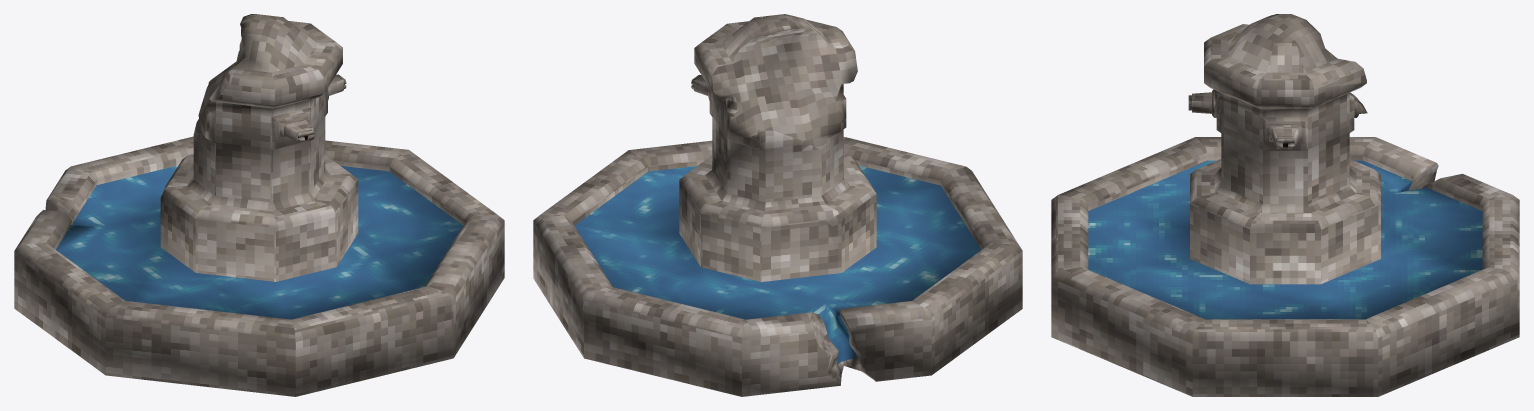
The model's file is Fountain_Broken.fbx.
3 renders of one model, left to right at view 1: azimuth 30°, elevation 25°; view 2: azimuth 150°, elevation 25°; view 3: azimuth 270°, elevation 25°, orthographic.
Visible parts, largest first — view 1: Cube.002; view 2: Cube.002; view 3: Cube.002.
Part boxes in pixels (x1,y1,x2,y2): Cube.002: [14, 14, 504, 396]; Cube.002: [533, 14, 1022, 396]; Cube.002: [1051, 14, 1519, 396].
Bounding box in the file's own units: 1365 × 897 × 1365.
